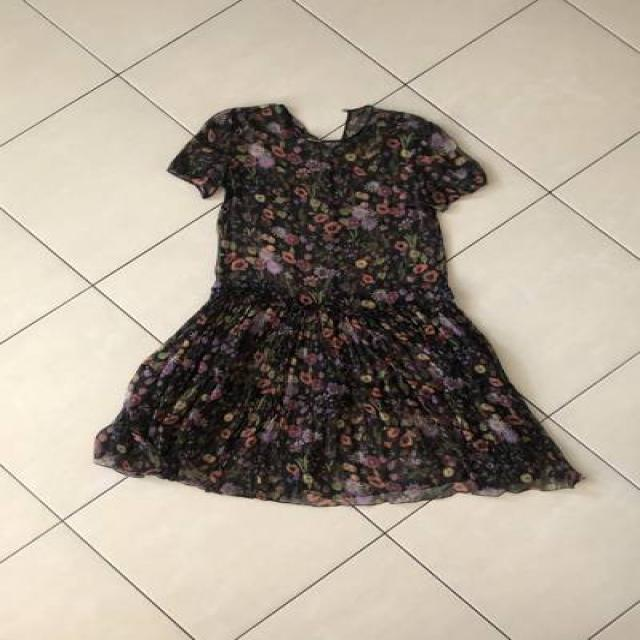non-organik: (95, 76, 588, 540)
